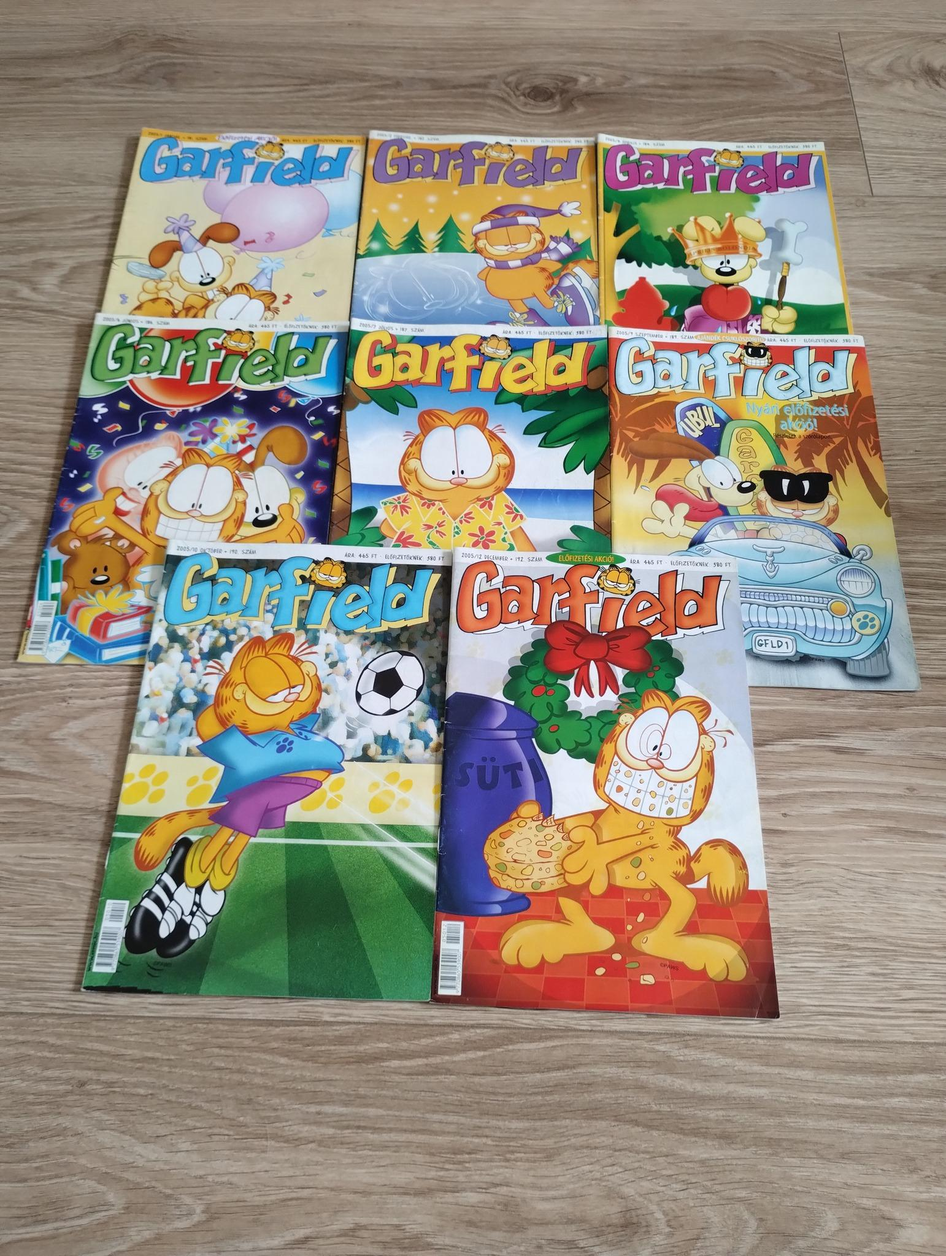comic: (85, 534, 453, 1006), (433, 549, 787, 1016), (19, 300, 347, 684), (609, 323, 919, 694), (343, 321, 609, 551), (102, 118, 365, 333), (595, 135, 853, 335), (351, 131, 603, 329)
